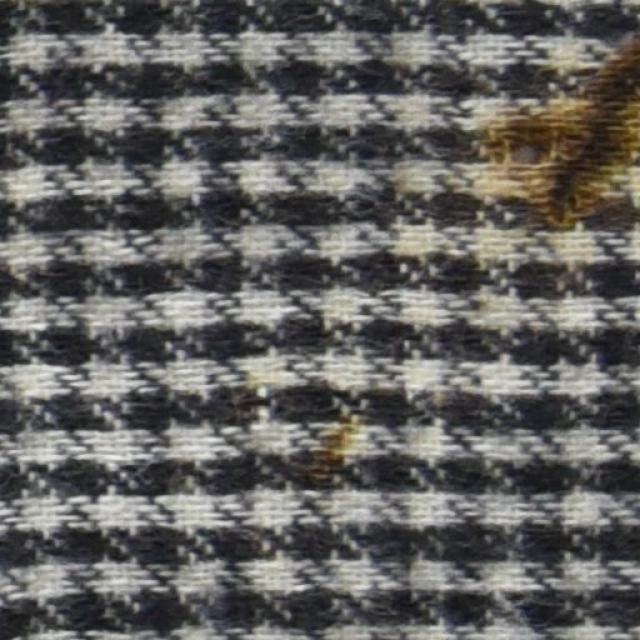Stain: (485, 10, 637, 235), (306, 404, 354, 490)
